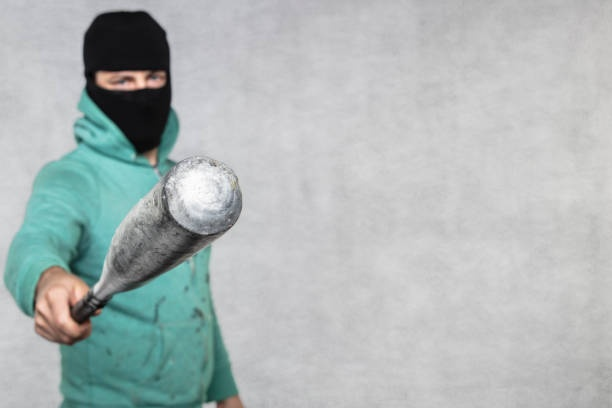bita: (68, 155, 242, 330)
